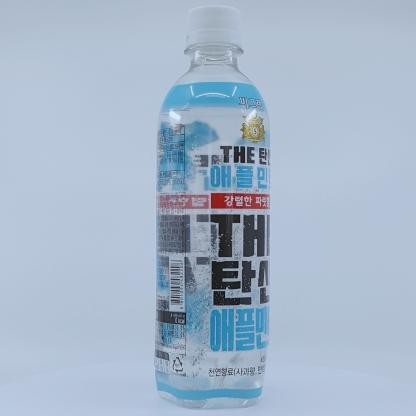------------450ML: (154, 5, 271, 409)
